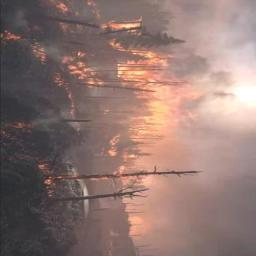Low smoke: (47, 0, 256, 256)
Small fire: (103, 20, 196, 229)
